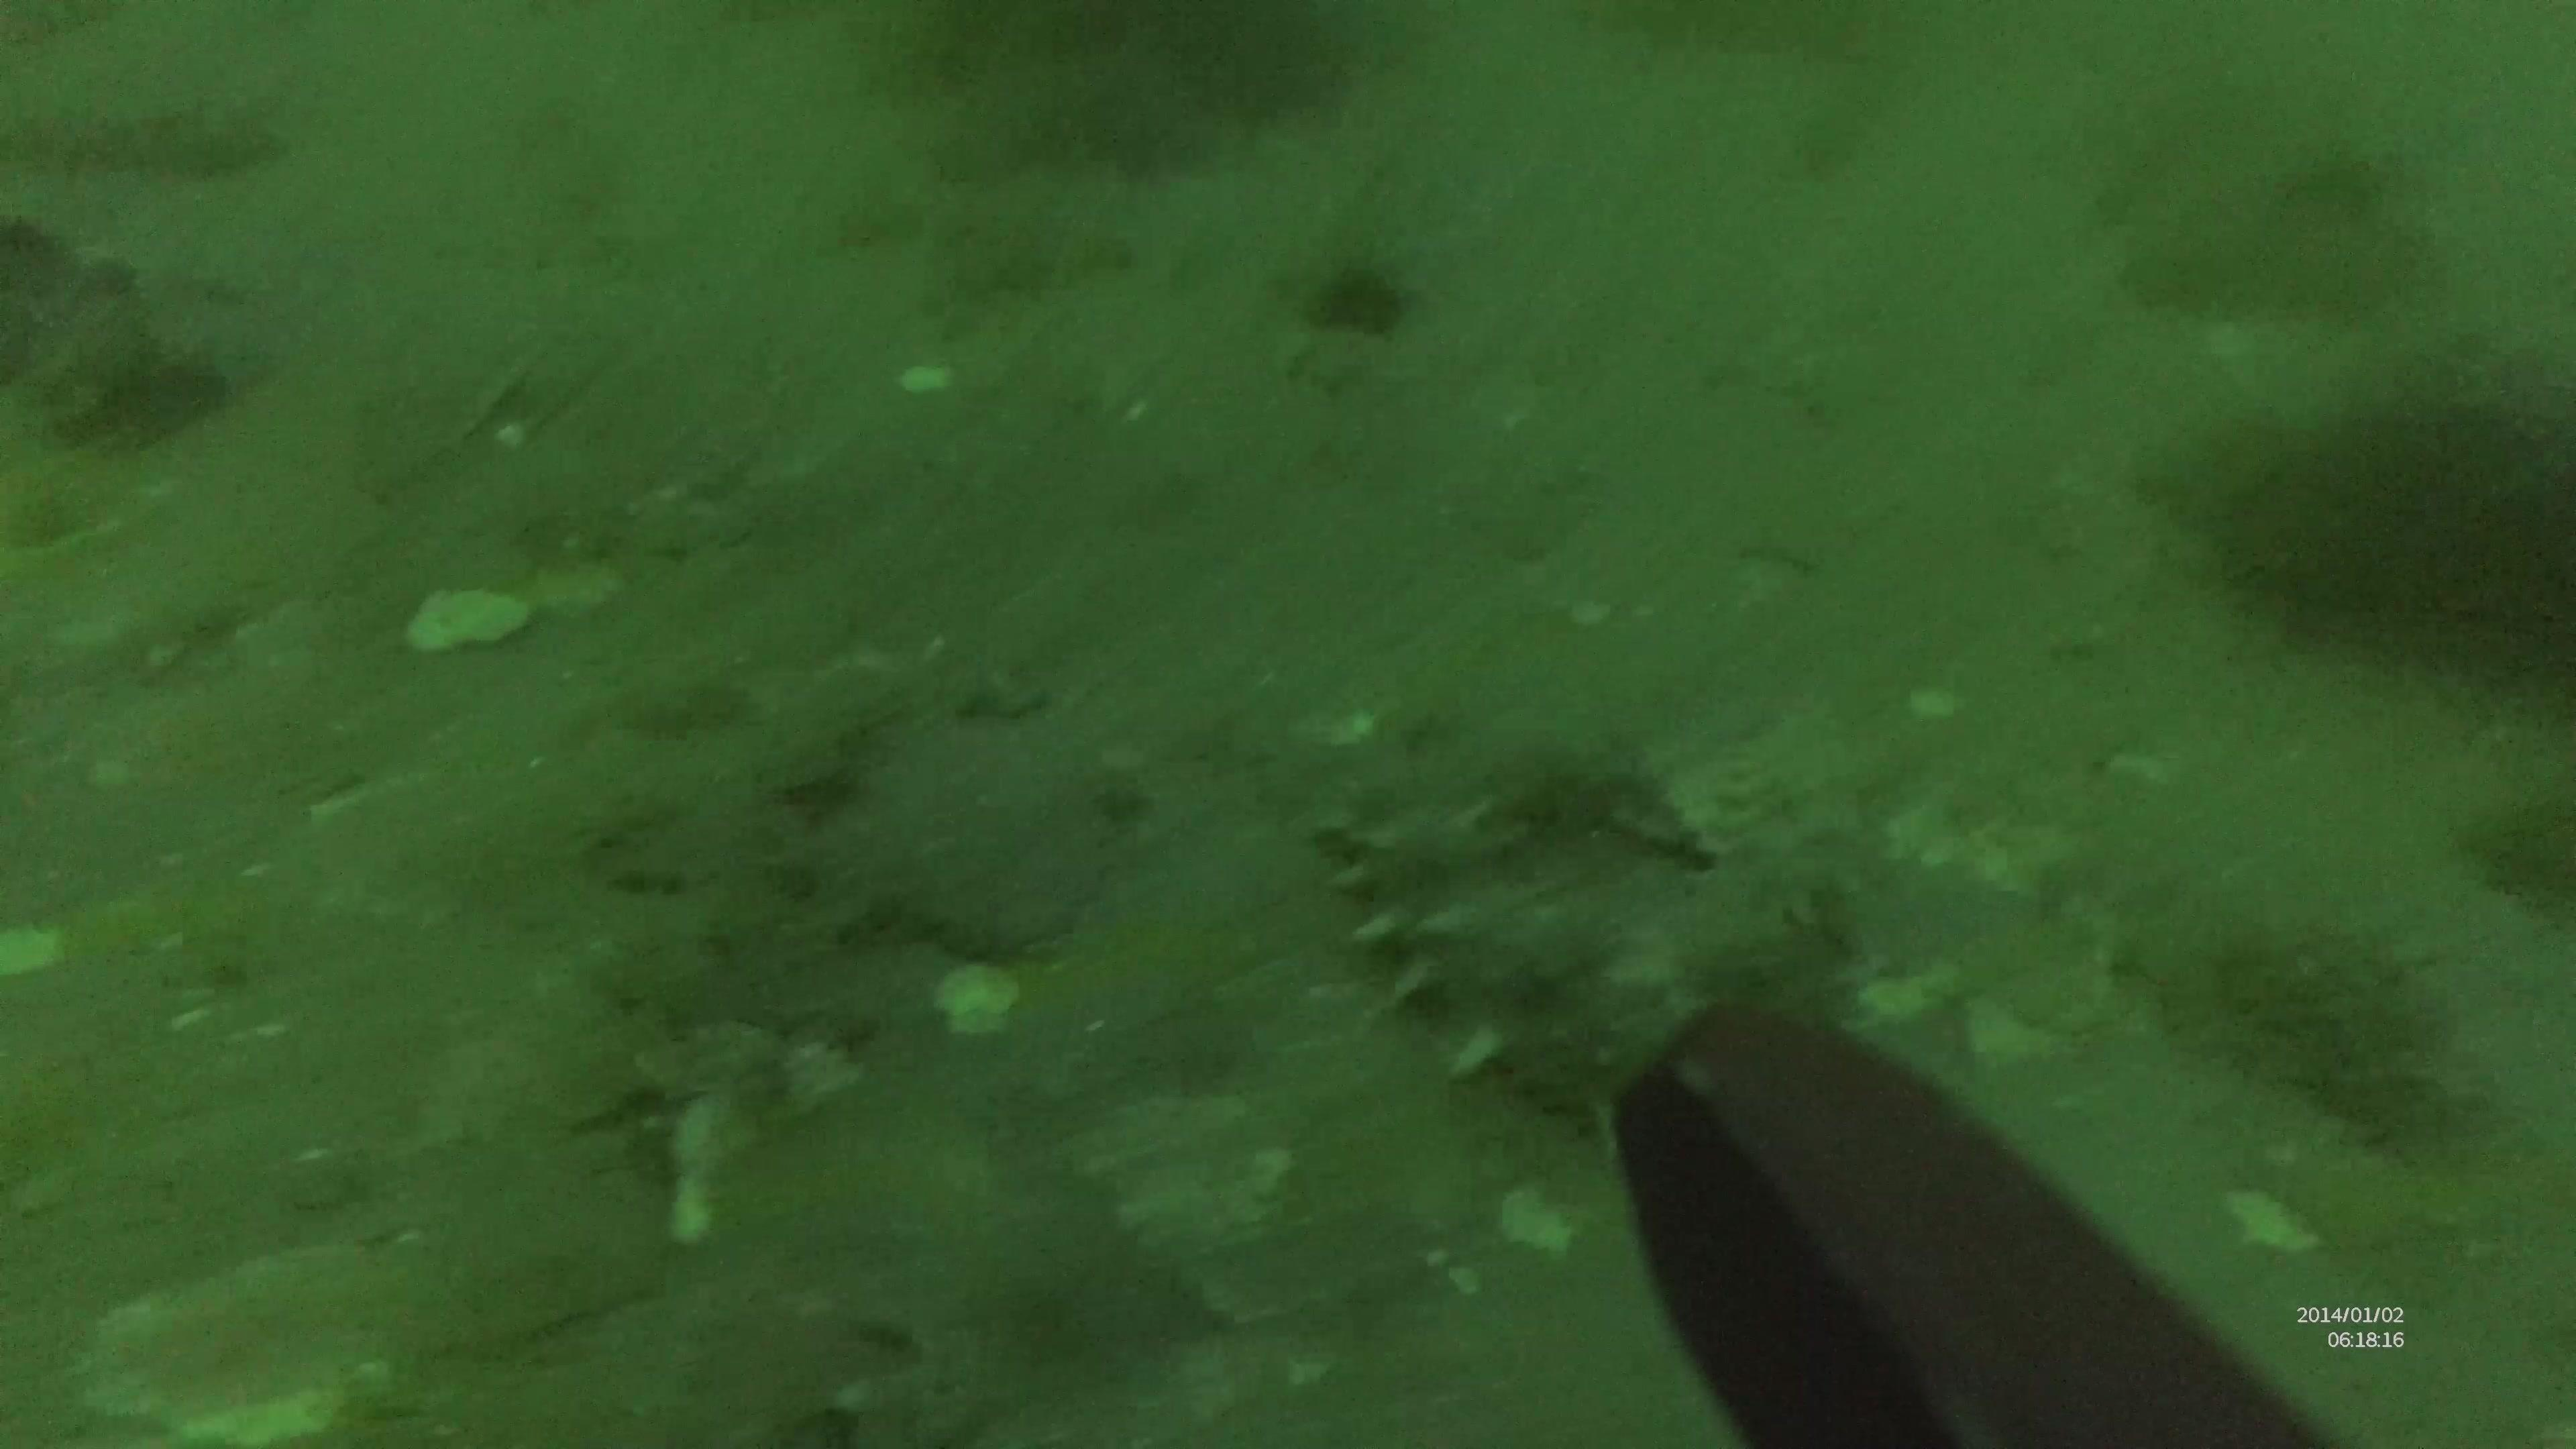holothurian: (1332, 798, 1859, 1138)
